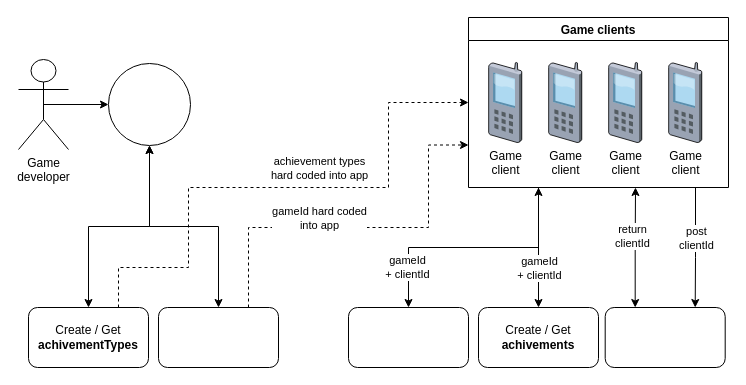
The diagram is 746 pixels wide and 385 high, and some of its shapes have lost their labels. Here are the shapes that lost their labels. From the top down, the centre of each, then its label:
(149,104): Simple user account " user "
(218,337): Create / Get games
(408,337): Create / Get scores
(664,337): Create clients
